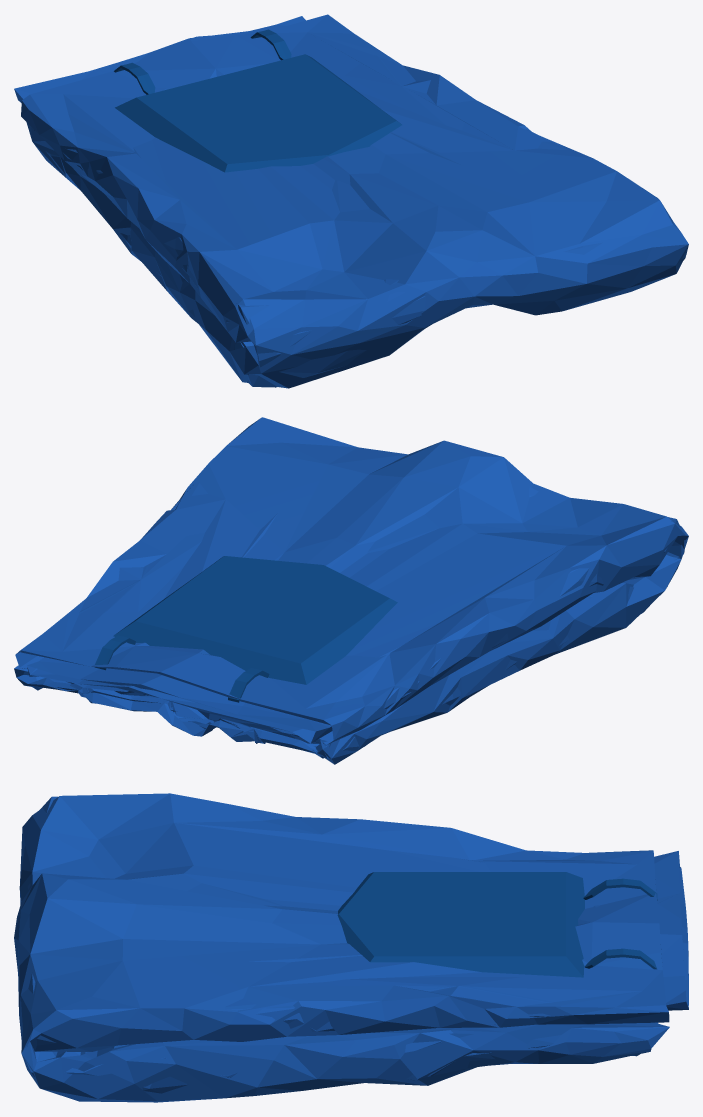
Rendered from 02Jeans_Sneaker Game.fbx.
The picture shows the model from 3 angles, top to bottom: view 1: azimuth 30°, elevation 25°; view 2: azimuth 150°, elevation 25°; view 3: azimuth 270°, elevation 25°; orthographic projection. The views are drawn at different scales.
Visible parts, largest first — view 1: Jeans; view 2: Jeans; view 3: Jeans.
Boxes of the visible parts, x1,y1,x2,y2 form: Jeans: (14,14,688,388); Jeans: (14,417,688,764); Jeans: (14,793,688,1102).
Bounding box in the file's own units: 49.77 × 14.28 × 62.91.
